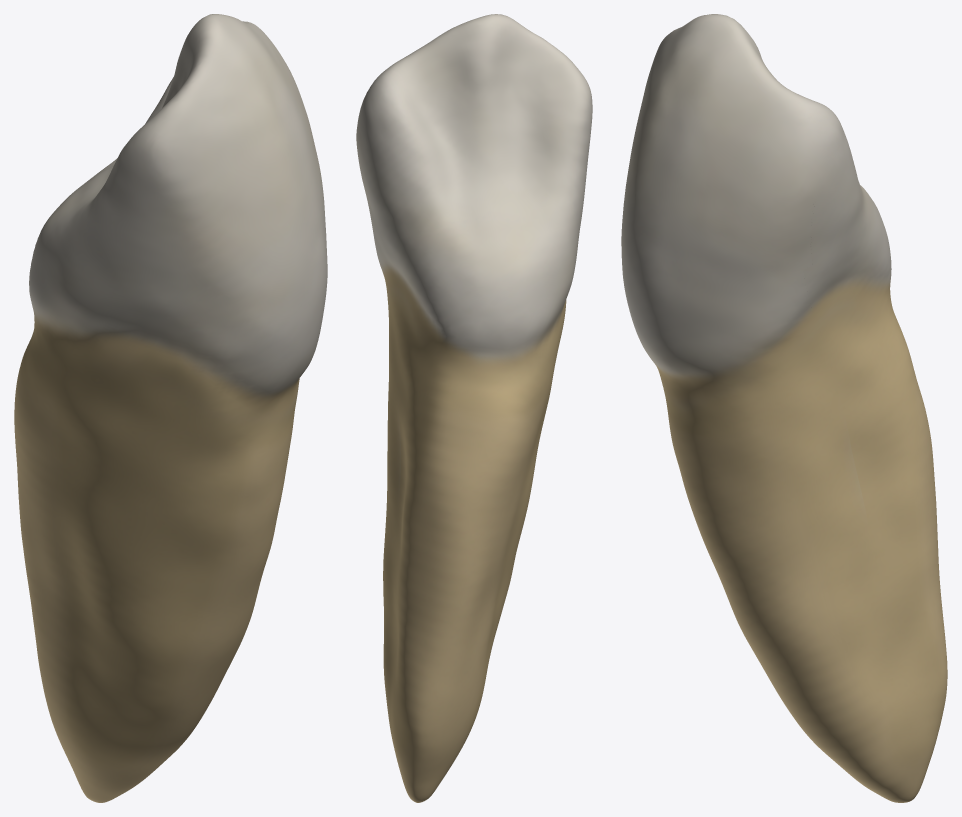
The model's file is mandibular_canine.glb.
The picture shows the model from 3 angles, left to right: view 1: azimuth 30°, elevation 25°; view 2: azimuth 150°, elevation 25°; view 3: azimuth 270°, elevation 25°; orthographic projection. The views are drawn at different scales.
Parts seen in each view (by area): view 1: Object_2; view 2: Object_2; view 3: Object_2.
Part boxes in pixels (x1=…): Object_2: x1=14, y1=14, x2=327, y2=802; Object_2: x1=356, y1=14, x2=592, y2=802; Object_2: x1=621, y1=14, x2=947, y2=802.
Bounding box in the file's own units: 0.266 × 0.9027 × 0.3363.
Materials: 1 (1 with a texture image).
